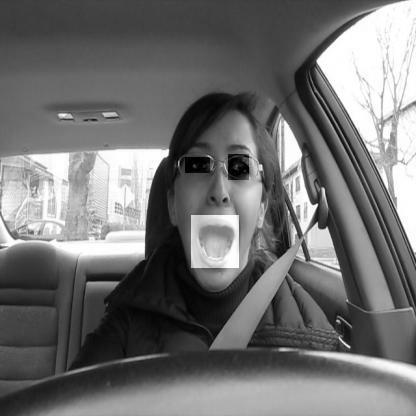seatbelt: (152, 87, 312, 346)
